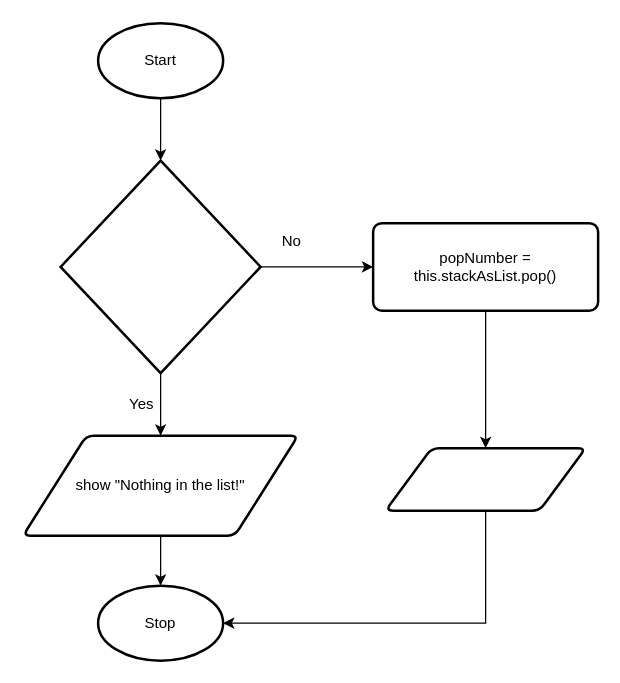
This 620x683 diagram has some shape labels left out. Each missing label, with the centre of its shape:
"if (this.stackAsList === undefined)" goes at point 160,266.
"return popNumber" goes at point 485,478.
